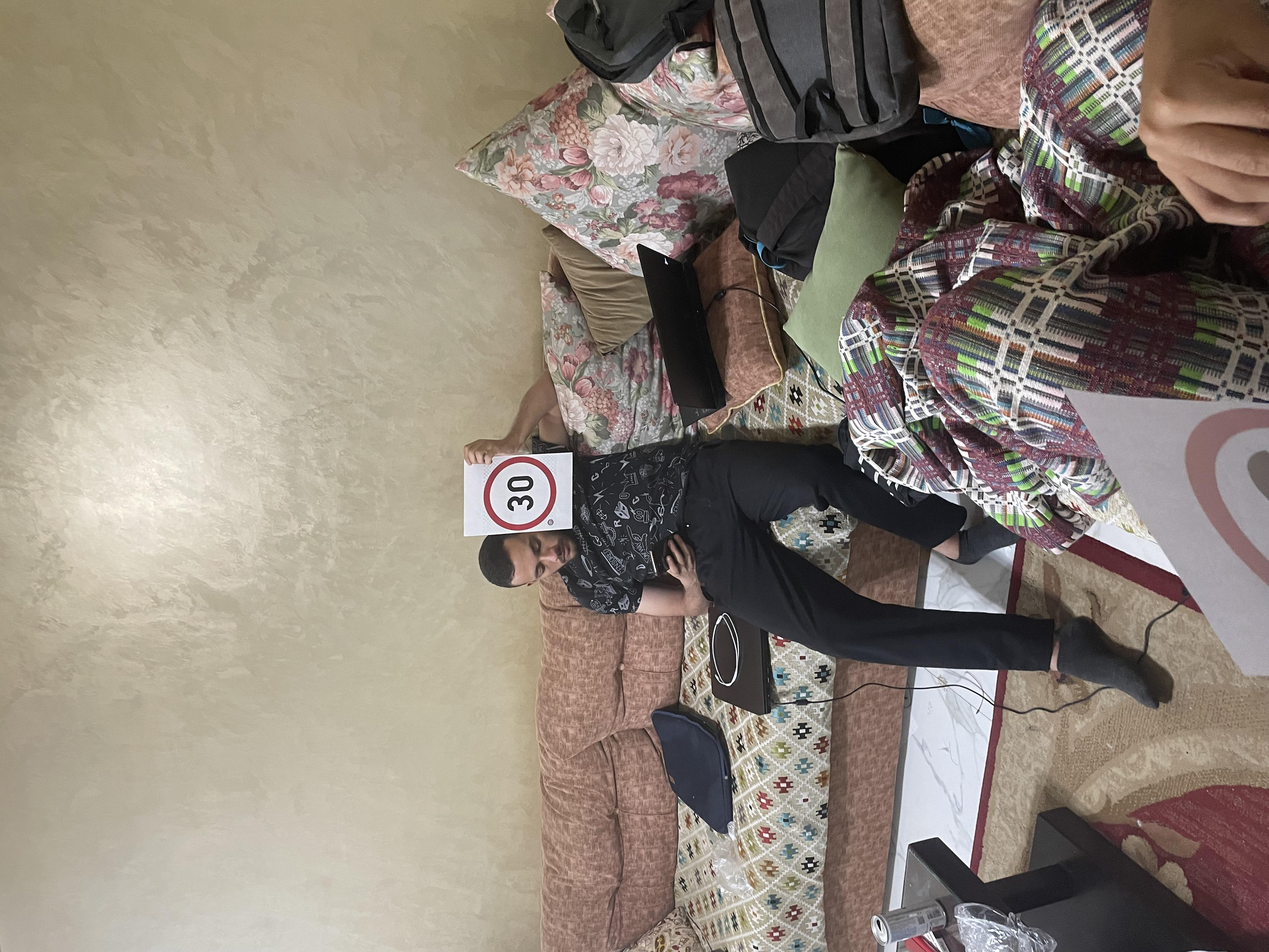30-speed: (559, 345, 667, 434)
